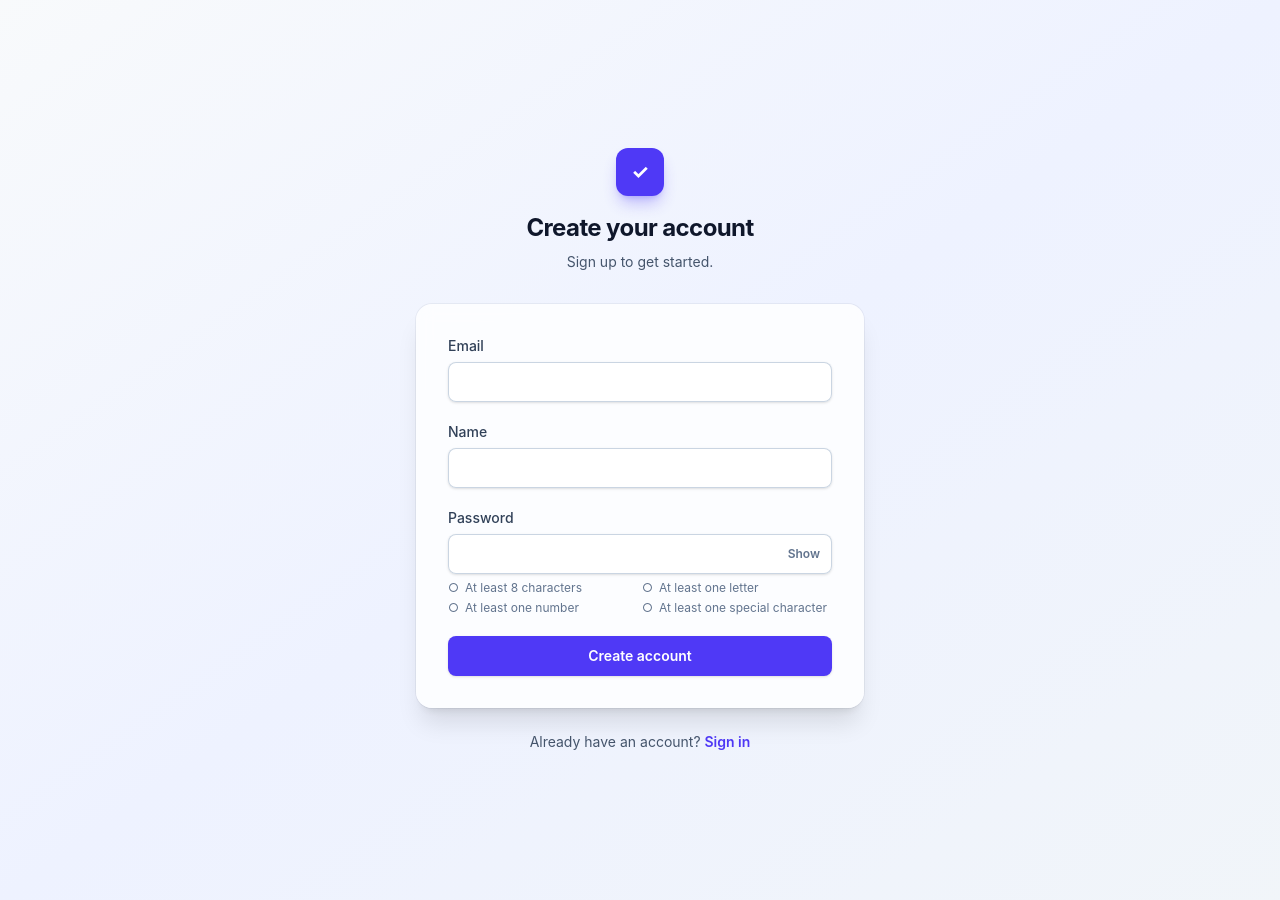
Test: Sign up page › creates the account and lands on the welcome page
The image size is (1280, 900).
Type "  Jane@Example.com " into the field labelled "Email" at (640, 382), box x1=448 y1=362 x2=832 y2=402
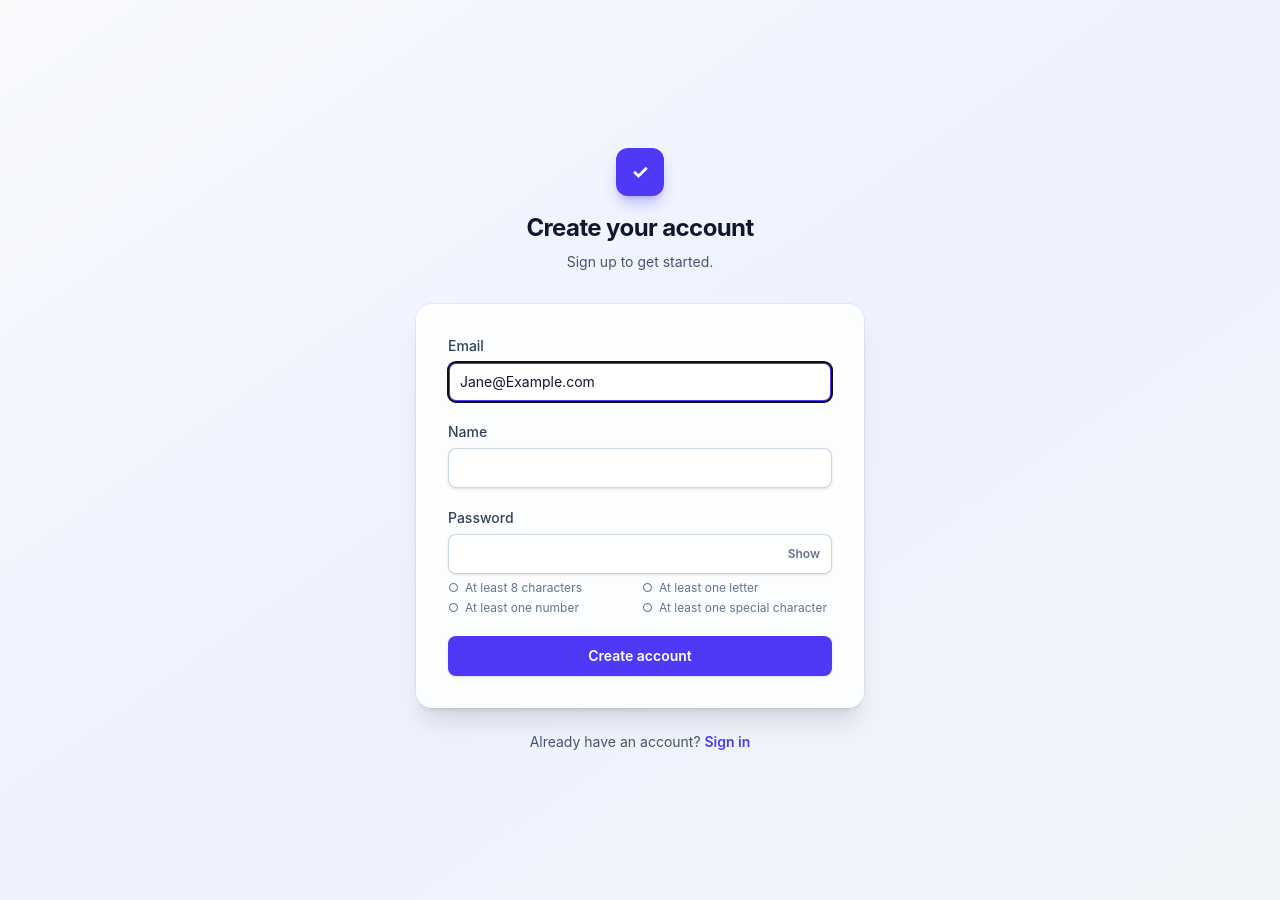
Type "Jane Doe" into the field labelled "Name" at (640, 468), box x1=448 y1=448 x2=832 y2=488
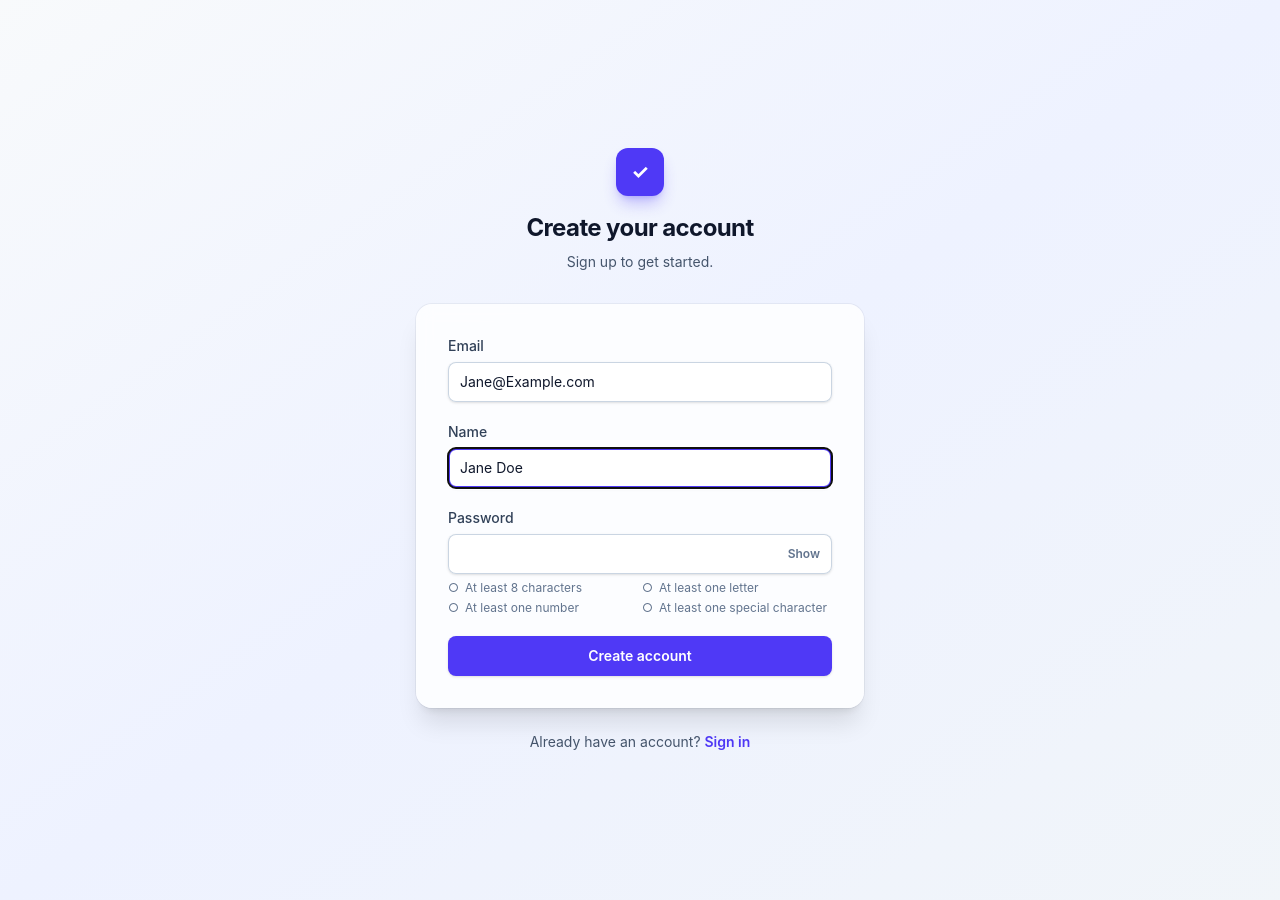
Type "Sup3r$ecret" into the password field labelled "Password" at (640, 554), box x1=448 y1=534 x2=832 y2=574
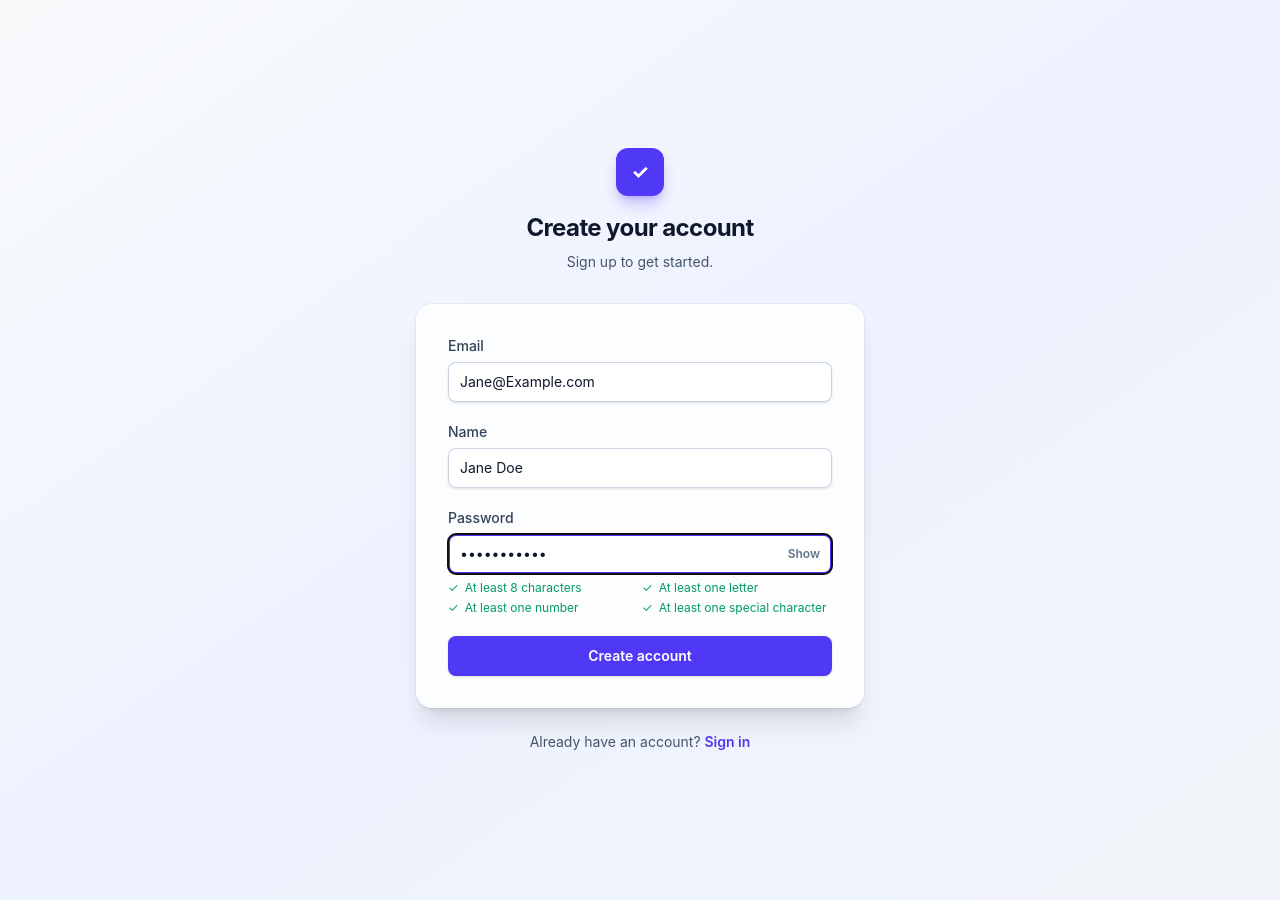
Click the button "Create account" at (640, 656), box x1=448 y1=636 x2=832 y2=676
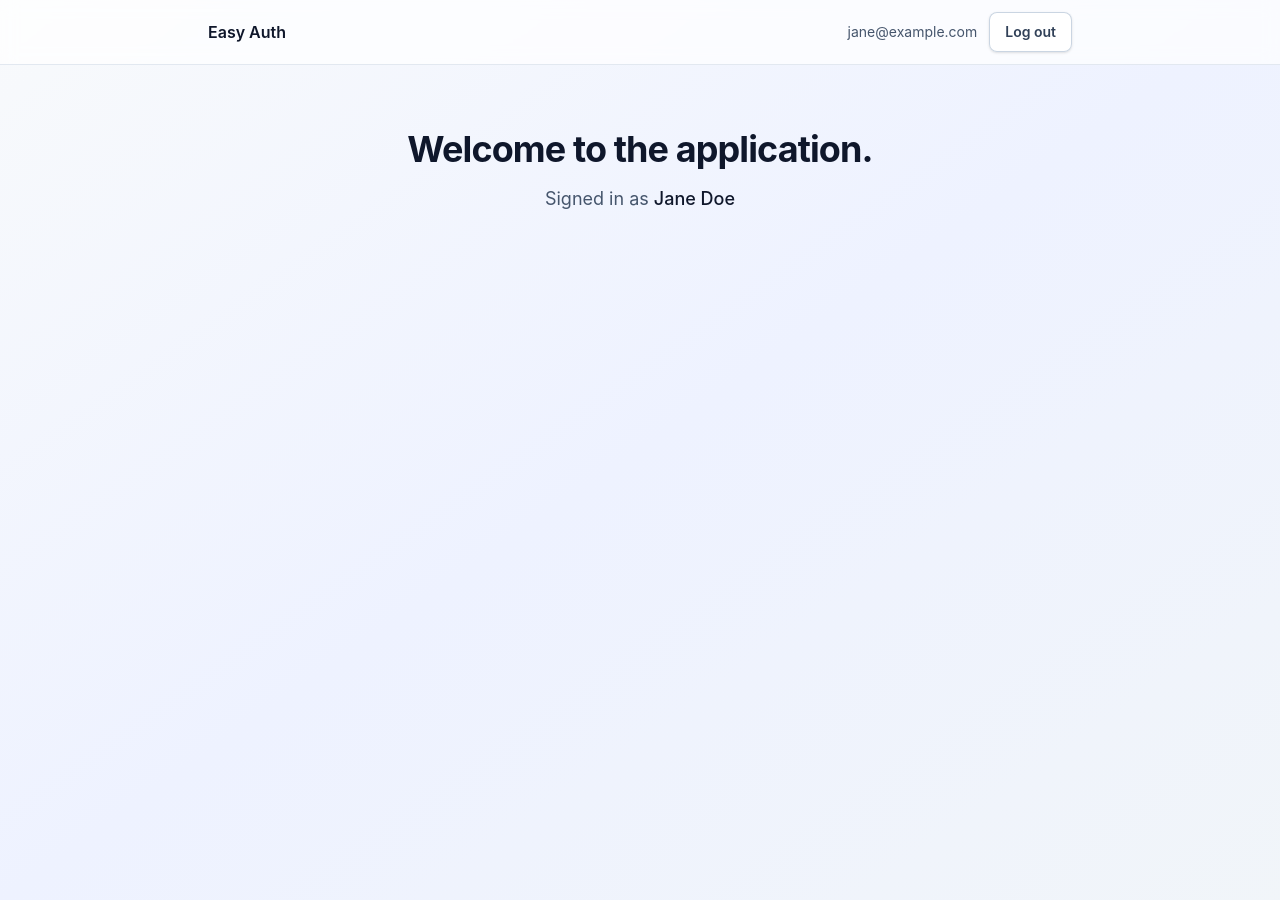
Result: the heading "Welcome to the application." is shown at x1=407 y1=127 x2=873 y2=171
